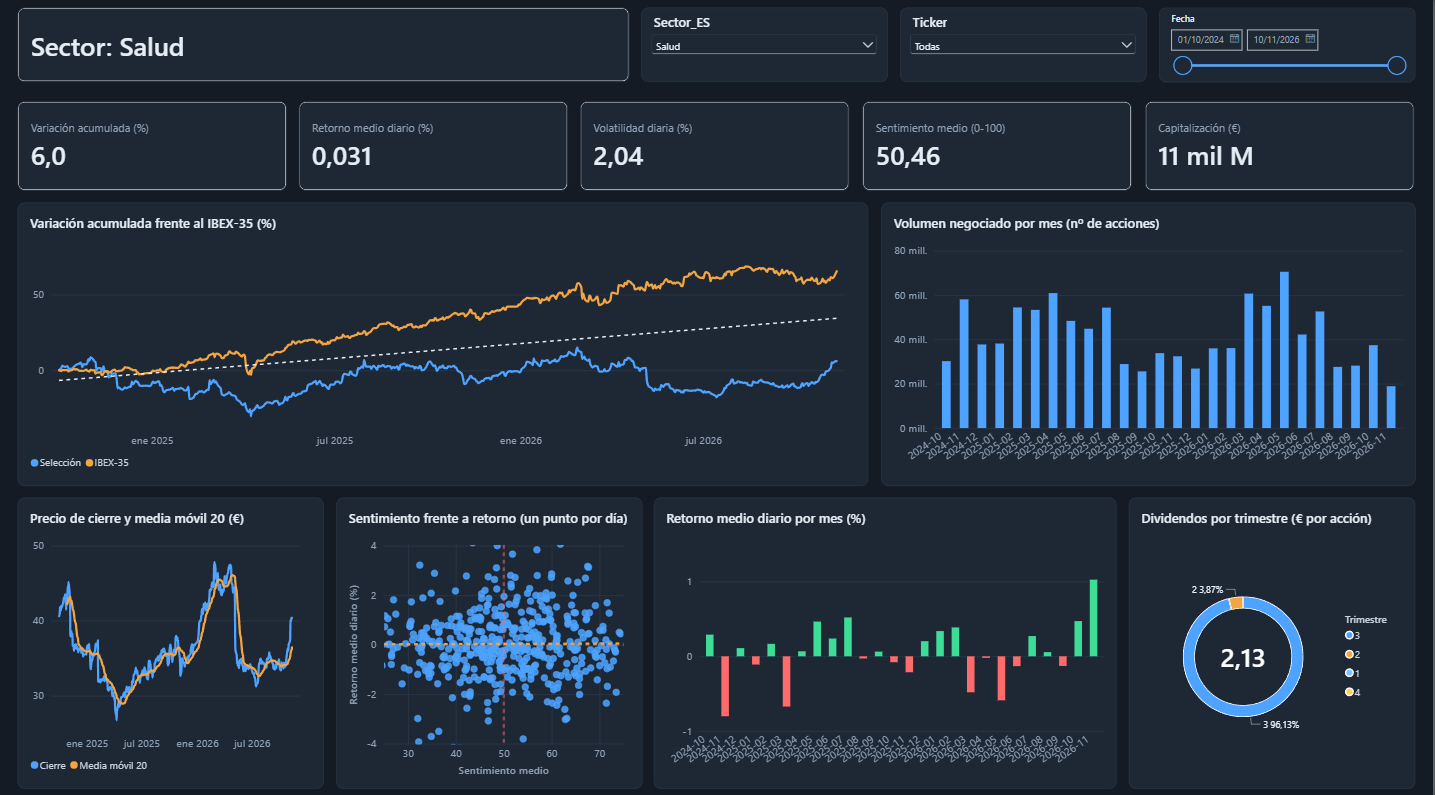

What the dashboard file says about the page in this screenshot:
{"tool":"powerbi","page":{"name":"Dashboard","canvas":[1920,1080],"ordinal":3},"visuals":[{"type":"slicer","fields":{"Values":["Empresa.Sector_ES"]},"box":[753.5,31.4,280.8,68],"z":0},{"type":"slicer","fields":{"Values":["Empresa.Ticker"]},"box":[1055.2,26.2,280.8,80.2],"z":1000},{"type":"slicer","fields":{"Values":["Fecha.Fecha"]},"box":[1360.5,19.2,280.8,95.9],"z":2000},{"type":"cardVisual","fields":{"Data":["Hechos.Variacion Acumulada"]},"box":[36.6,115.1,218,174.4],"z":3000},{"type":"cardVisual","fields":{"Data":["Hechos.Retorno Medio Diario"]},"box":[375,115.1,218,174.4],"z":4000},{"type":"cardVisual","fields":{"Data":["Hechos.Volatilidad Diaria"]},"box":[741.3,115.1,218,174.4],"z":5000},{"type":"cardVisual","fields":{"Data":["Hechos.Sentimiento Medio"]},"box":[1088.4,115.1,218,174.4],"z":6000},{"type":"cardVisual","fields":{"Data":["Hechos.Capitalizacion Total"]},"box":[1447.7,115.1,218,174.4],"z":7000},{"type":"lineChart","fields":{"Category":["Fecha.Fecha"],"Y":["Hechos.Var Acum Seleccion","Hechos.Var Acum IBEX"]},"box":[43.6,314,1058.7,376.7],"z":8000},{"type":"clusteredColumnChart","fields":{"Category":["Fecha.AnioMes"],"Y":["Sum(Hechos.Volume)"]},"box":[1133.7,314,736,376.7],"z":9000},{"type":"lineChart","fields":{"Category":["Fecha.Fecha"],"Y":["Avg(Hechos.Close)","Avg(Hechos.Media_Movil_20)"]},"box":[66.3,711.6,395.9,322.7],"z":10000},{"type":"scatterChart","fields":{"Category":["Fecha.Fecha"],"X":["Hechos.Sentimiento Medio"],"Y":["Hechos.Retorno Medio Diario"]},"box":[462.2,711.6,444.8,322.7],"z":11000},{"type":"clusteredColumnChart","fields":{"Category":["Fecha.AnioMes"],"Y":["Hechos.Retorno Medio Diario"]},"box":[907,711.6,610.5,322.7],"z":12000},{"type":"donutChart","fields":{"Category":["Fecha.Trimestre"],"Y":["Sum(Hechos.Dividends)"]},"box":[1517.4,711.6,385.5,322.7],"z":13000},{"type":"cardVisual","fields":{"Data":["Hechos.Titulo Dashboard"]},"box":[66.3,19.2,556.4,75],"z":13001}]}

Visuals, with their boxes in screenshot pixels (x1, y1, x2, y2), scaled from the page's 1920x1080 canvas onto the 1435x795 screenshot:
slicer - Empresa.Sector_ES: bbox(563, 23, 773, 73)
slicer - Empresa.Ticker: bbox(789, 19, 999, 78)
slicer - Fecha.Fecha: bbox(1017, 14, 1227, 85)
cardVisual - Hechos.Variacion Acumulada: bbox(27, 85, 190, 213)
cardVisual - Hechos.Retorno Medio Diario: bbox(280, 85, 443, 213)
cardVisual - Hechos.Volatilidad Diaria: bbox(554, 85, 717, 213)
cardVisual - Hechos.Sentimiento Medio: bbox(813, 85, 976, 213)
cardVisual - Hechos.Capitalizacion Total: bbox(1082, 85, 1245, 213)
lineChart - Fecha.Fecha x Hechos.Var Acum Seleccion: bbox(33, 231, 824, 508)
clusteredColumnChart - Fecha.AnioMes x Sum(Hechos.Volume): bbox(847, 231, 1397, 508)
lineChart - Fecha.Fecha x Avg(Hechos.Close): bbox(50, 524, 345, 761)
scatterChart - Fecha.Fecha x Hechos.Sentimiento Medio: bbox(345, 524, 678, 761)
clusteredColumnChart - Fecha.AnioMes x Hechos.Retorno Medio Diario: bbox(678, 524, 1134, 761)
donutChart - Fecha.Trimestre x Sum(Hechos.Dividends): bbox(1134, 524, 1422, 761)
cardVisual - Hechos.Titulo Dashboard: bbox(50, 14, 465, 69)
